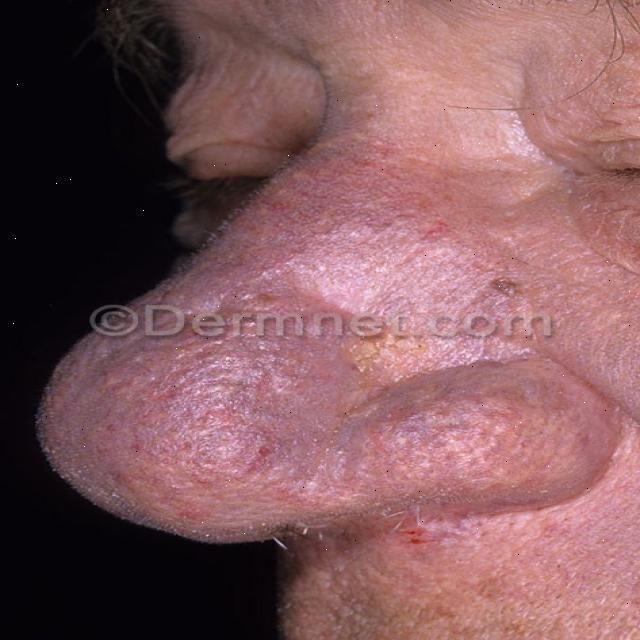images: (31, 0, 639, 639)
